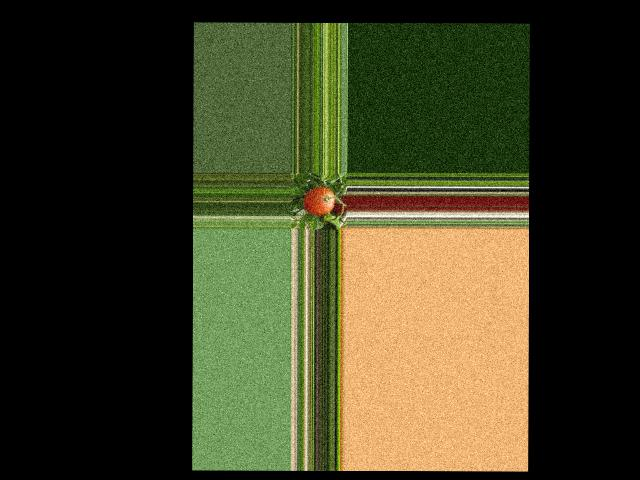tomato: (304, 186, 334, 214)
